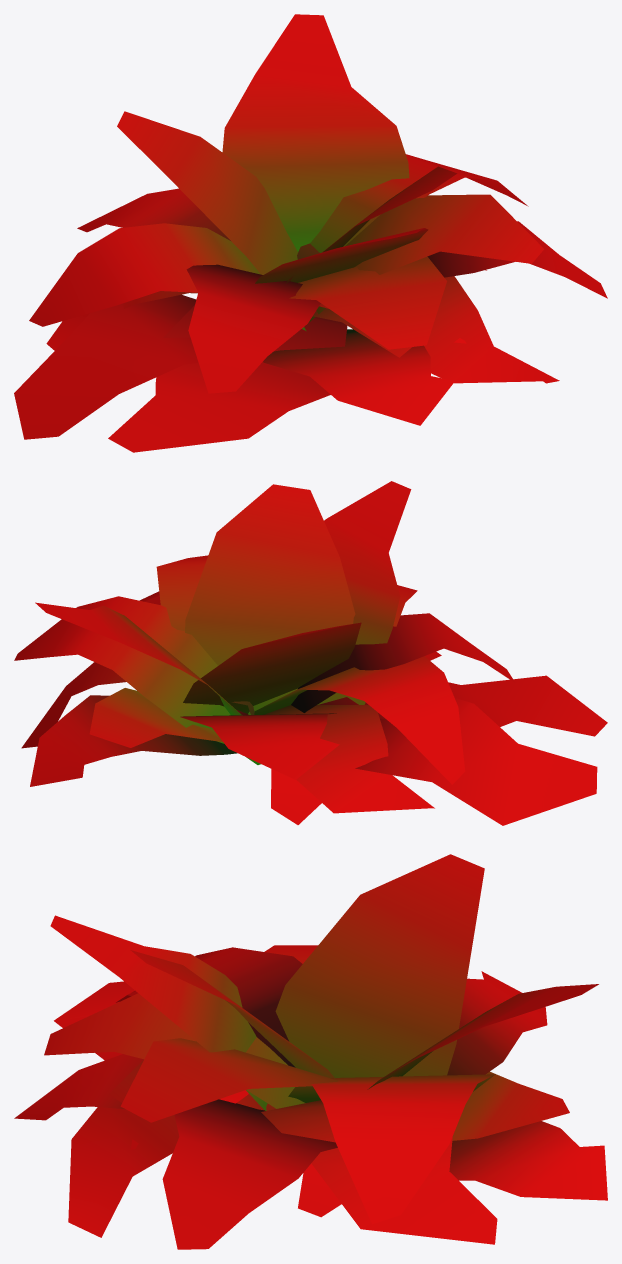
The model's file is Fern_Var2_LOD2.fbx.
The picture shows the model from 3 angles, top to bottom: view 1: azimuth 30°, elevation 25°; view 2: azimuth 150°, elevation 25°; view 3: azimuth 270°, elevation 25°; orthographic projection. The views are drawn at different scales.
Parts seen in each view (by area): view 1: Var2_LOD2; view 2: Var2_LOD2; view 3: Var2_LOD2.
Boxes of the visible parts, x1,y1,x2,y2 form: Var2_LOD2: (14, 14, 607, 452); Var2_LOD2: (14, 481, 607, 825); Var2_LOD2: (14, 854, 607, 1249).
Size of the model in its own units: 57.52 by 21.06 by 47.06.
